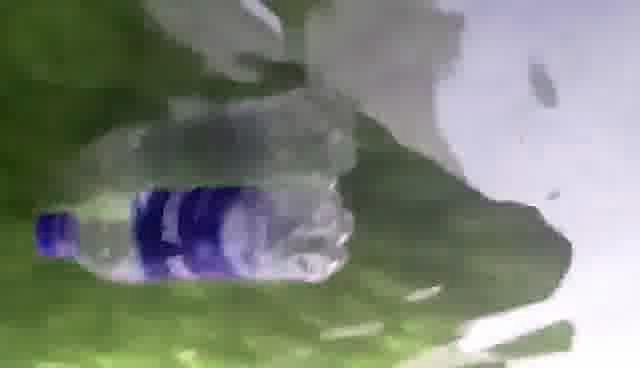Plastic: (29, 181, 358, 294)
